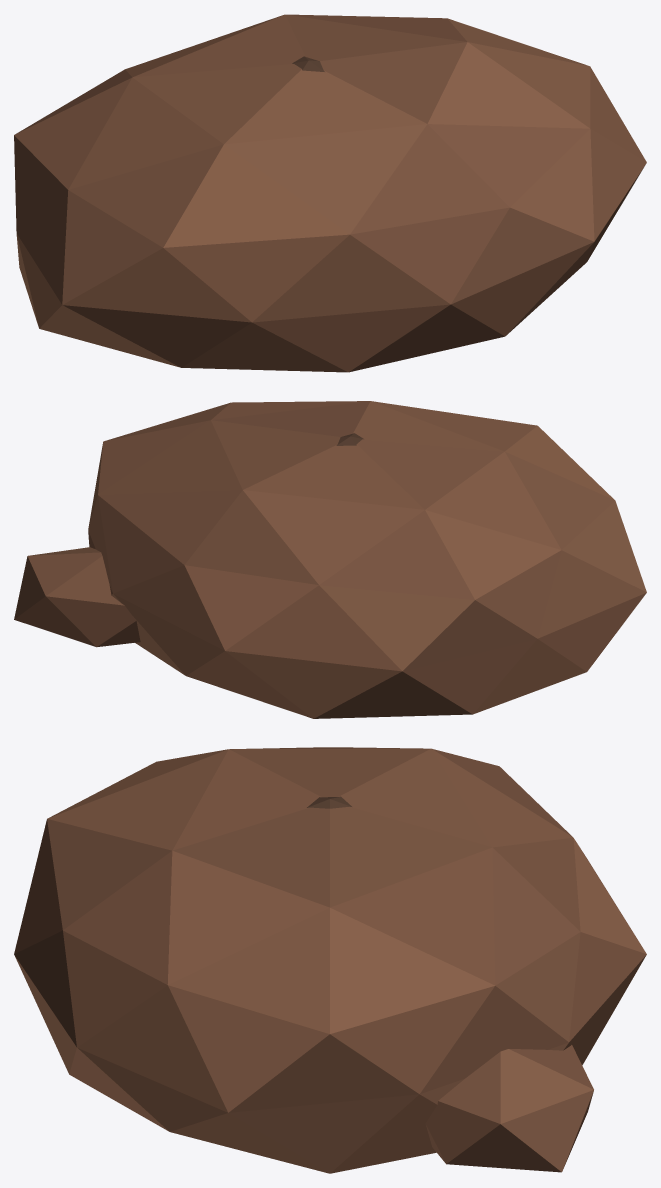
Rendered from clay_lump.glb.
3 views of the same model, one above another, from view 1: azimuth 30°, elevation 25°; view 2: azimuth 150°, elevation 25°; view 3: azimuth 270°, elevation 25° (orthographic). The views are drawn at different scales.
Visible parts, largest first — view 1: clay_lump; view 2: clay_lump; view 3: clay_lump.
Part boxes in pixels (box(x1,y1,x2,y2)): clay_lump: box(14, 14, 646, 372); clay_lump: box(14, 401, 646, 718); clay_lump: box(14, 747, 646, 1173).
Size of the model in its own units: 0.3516 by 0.1298 by 0.2968.
